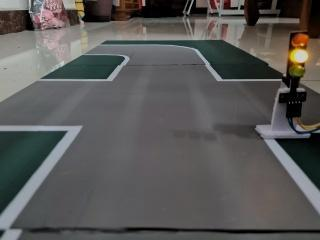yellow: (273, 20, 320, 89)
